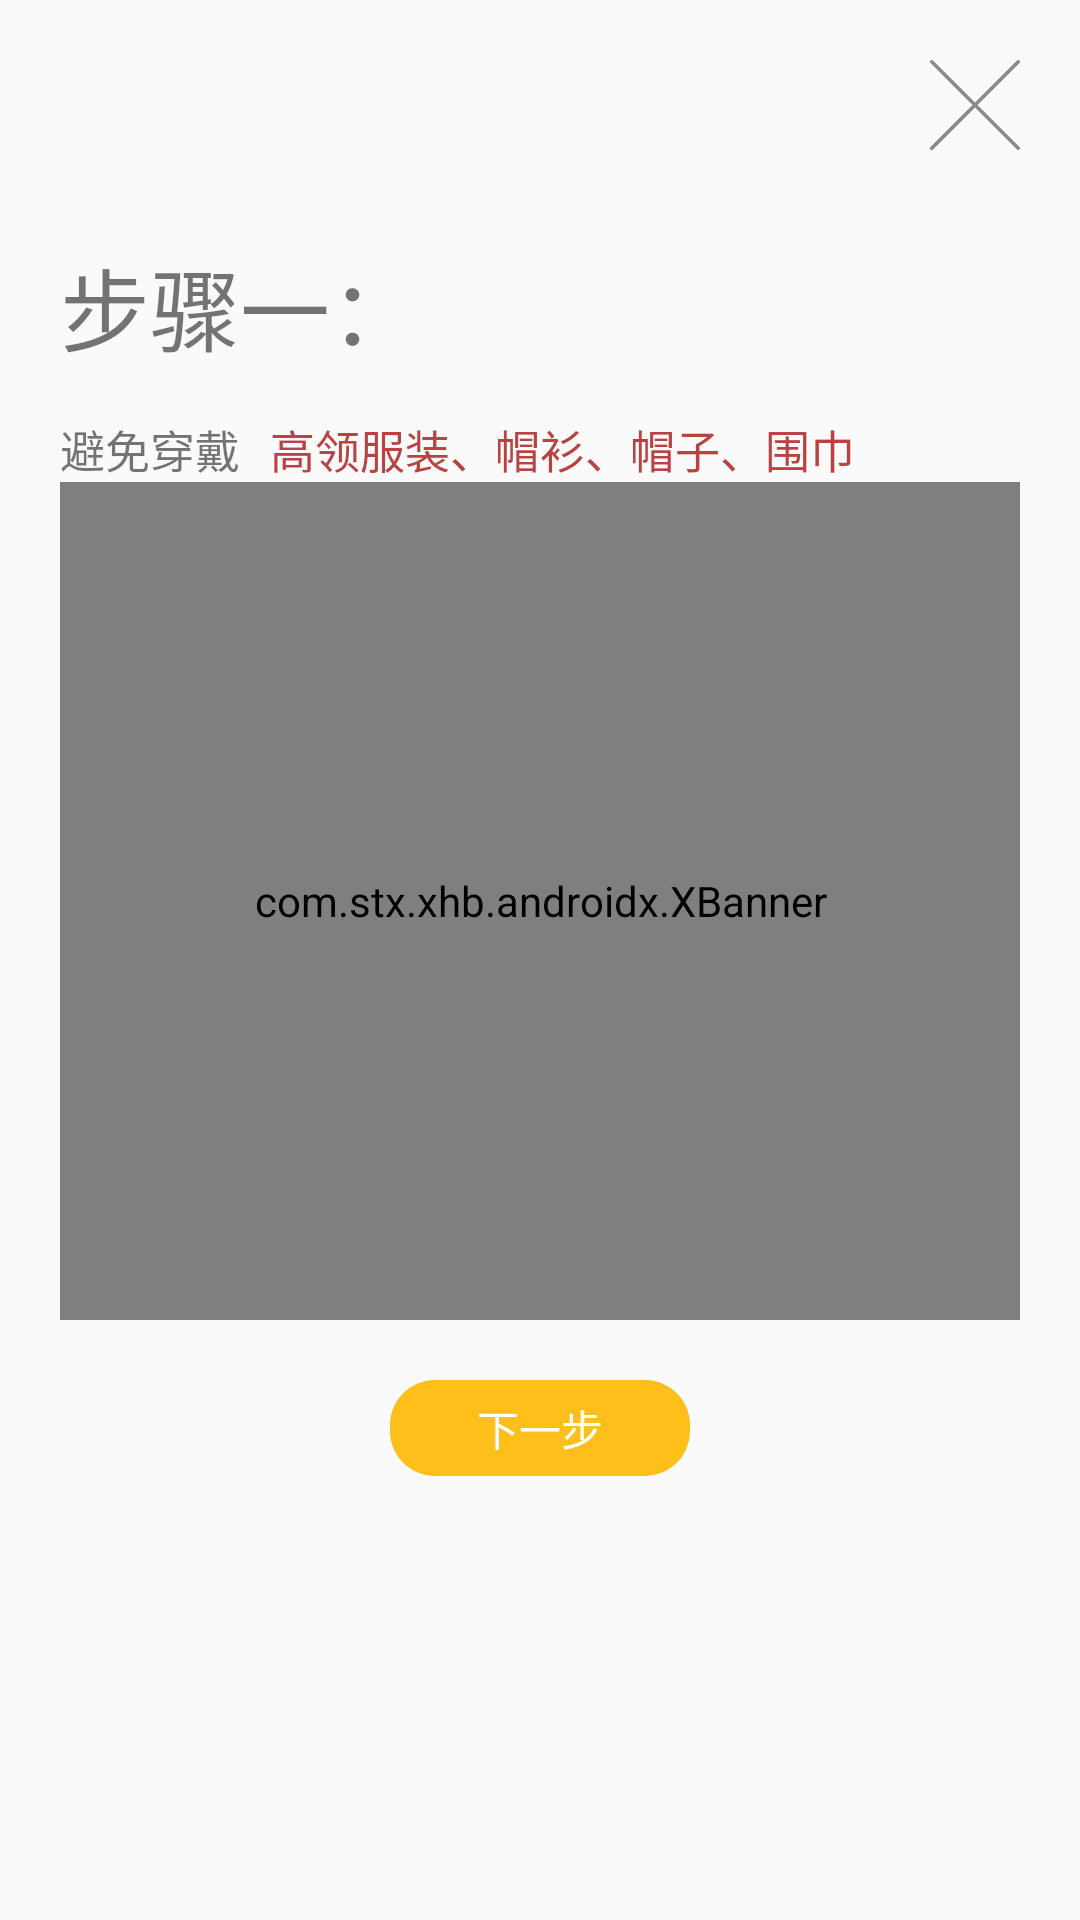

Screen size 1080w x 1920h. Icon name, then its box in pixels as (x1, y1, x2, y2):
close: (930, 60, 1020, 150)
